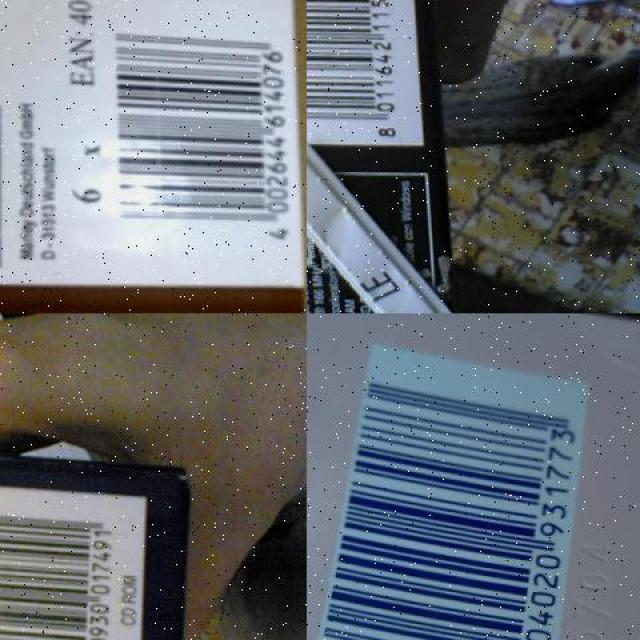Barcode: (307, 340, 601, 640), (105, 10, 296, 250), (0, 478, 146, 640), (306, 0, 422, 144)
